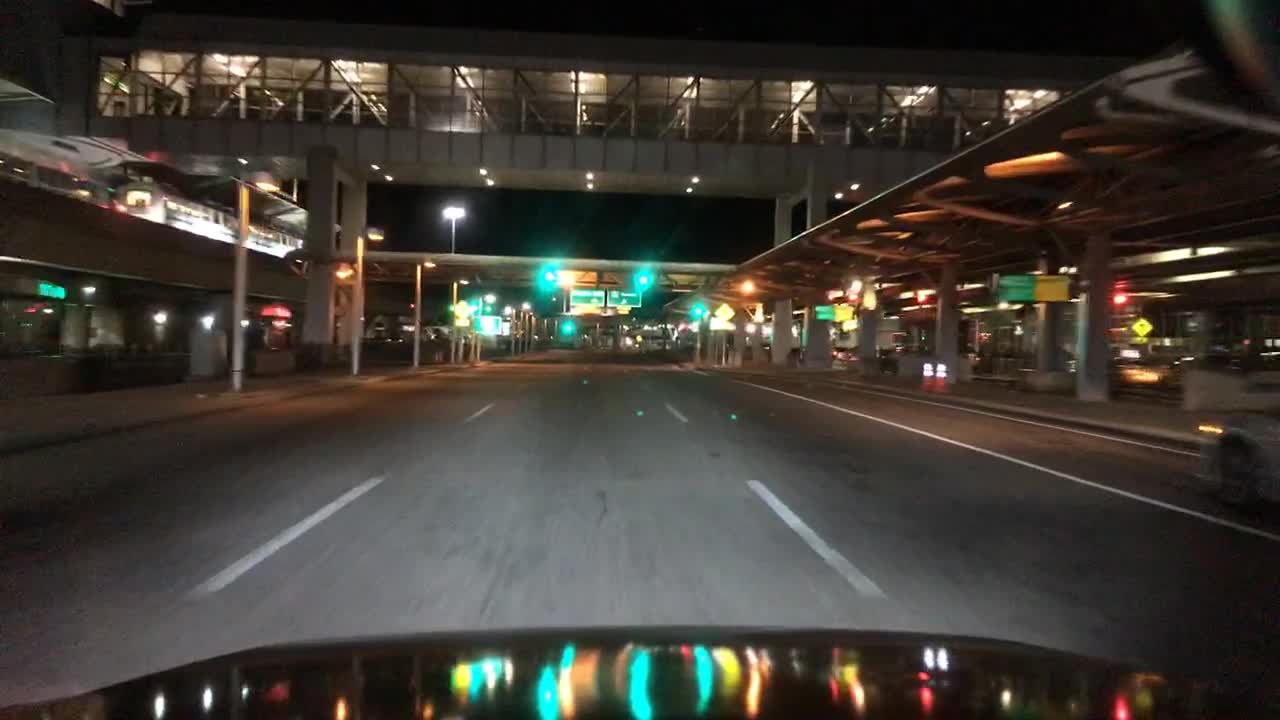car: (1193, 408, 1279, 508), (1105, 349, 1169, 400), (874, 344, 911, 374), (828, 341, 855, 366), (786, 342, 806, 361)
traffic light: (541, 261, 553, 287), (634, 265, 648, 287), (558, 319, 575, 334), (692, 299, 702, 317)
traffic sign: (995, 273, 1075, 302), (813, 304, 852, 322), (1127, 315, 1152, 342), (570, 288, 604, 307), (471, 314, 503, 334), (607, 290, 643, 307), (712, 300, 735, 322), (454, 300, 469, 329)
